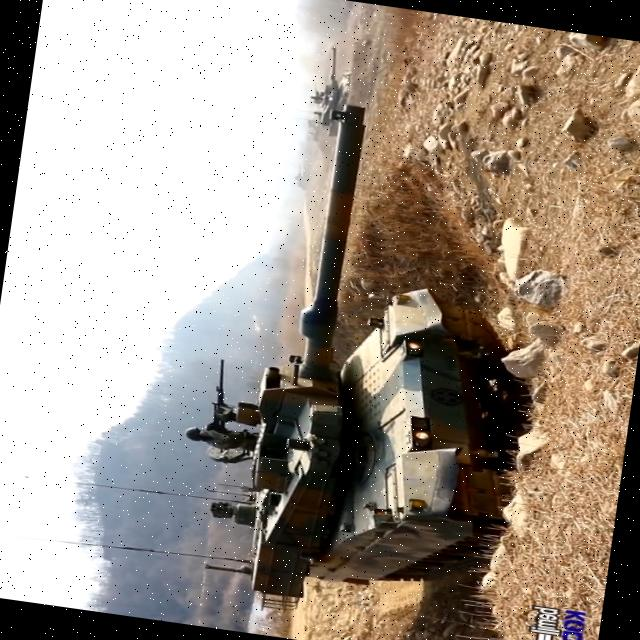korea tank: (159, 88, 563, 640)
